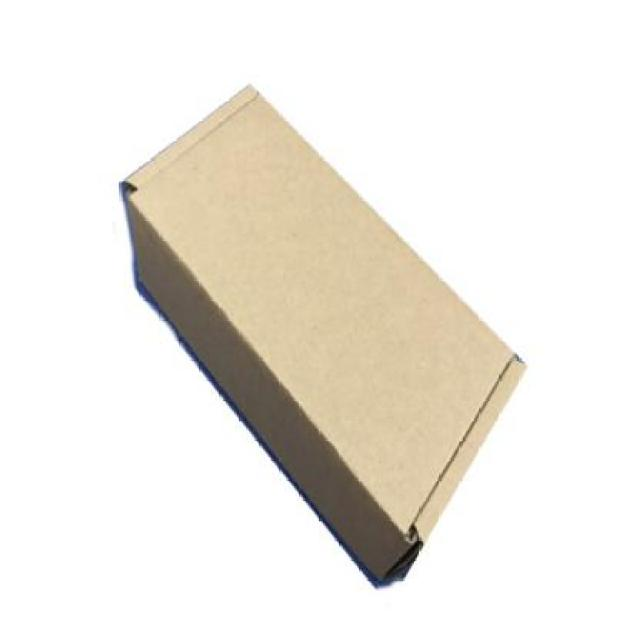cardboxes: (124, 84, 525, 578)
